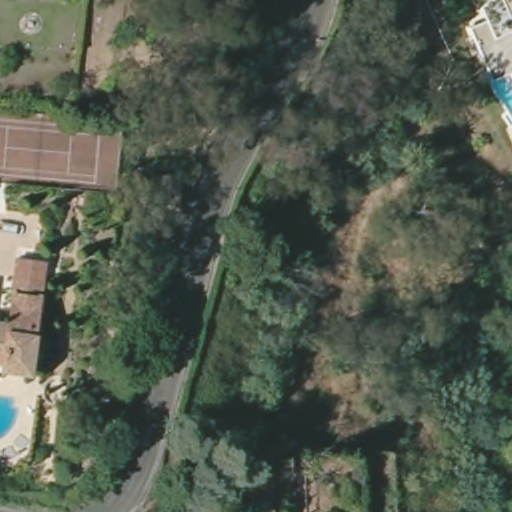pool: (488, 70, 512, 130), (1, 390, 22, 448)
